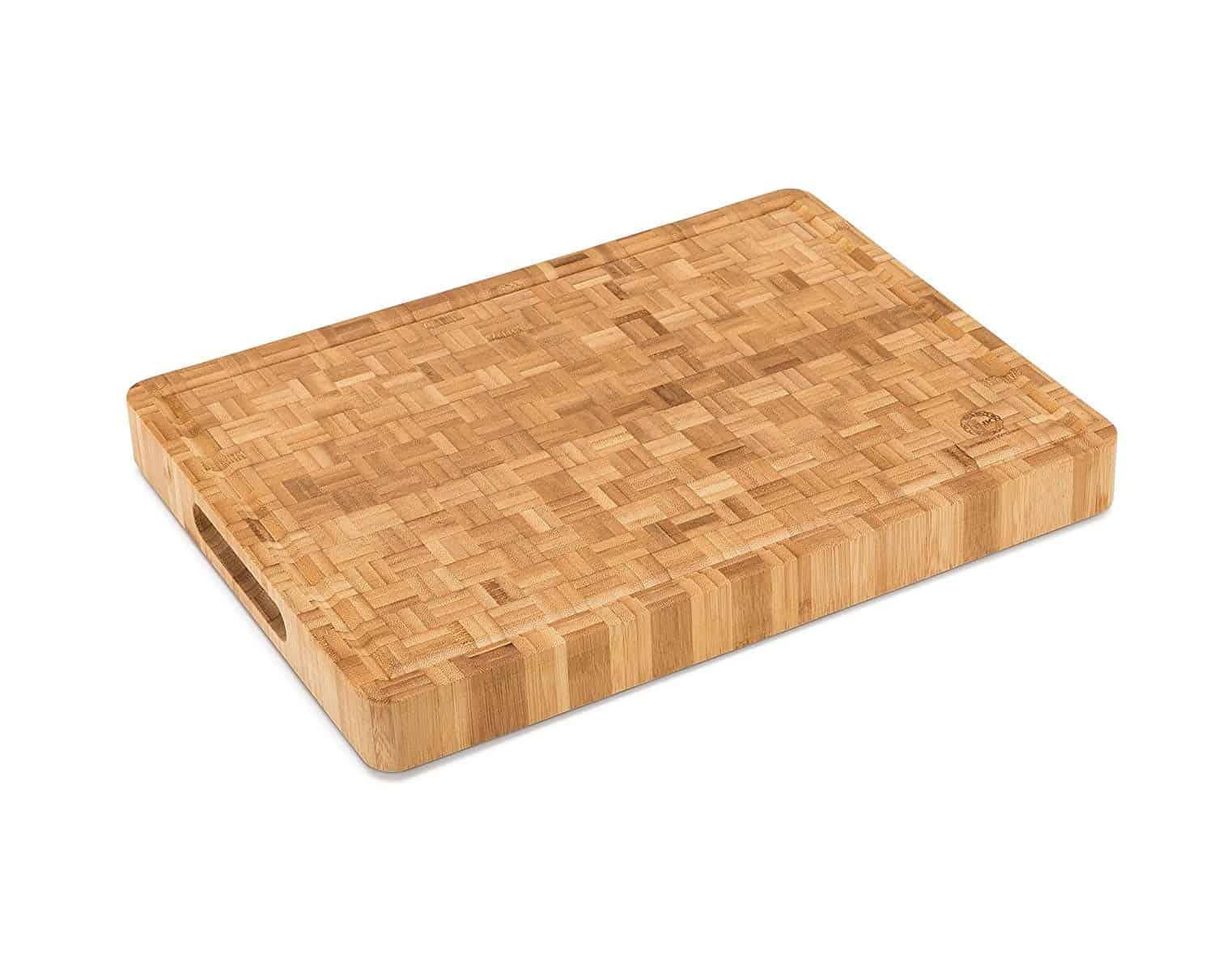gloved_hand: (108, 180, 1122, 792)
